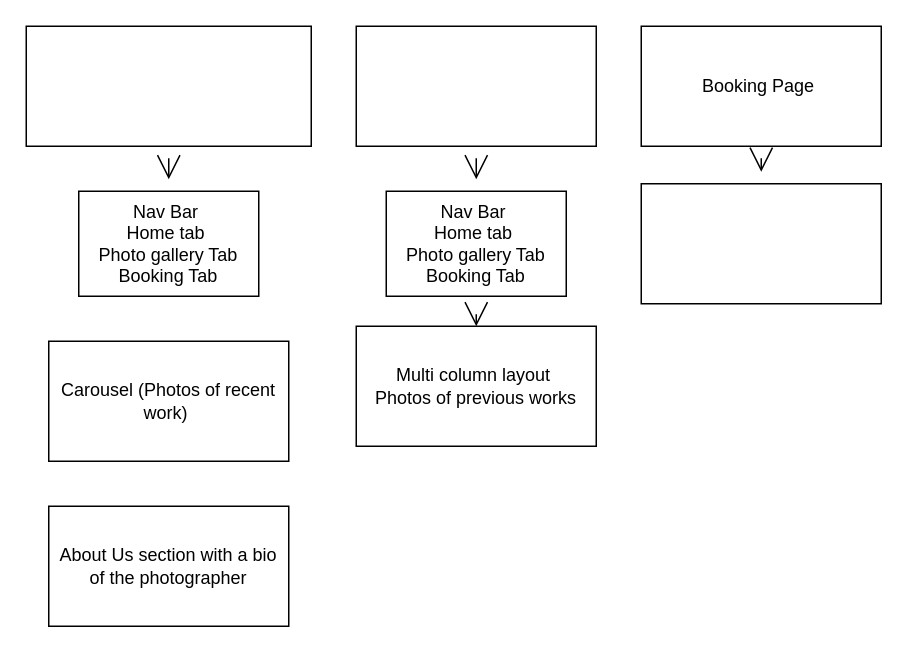
The diagram is 908 pixels wide and 653 high, and some of its shapes have lost their labels. The centre of each missing label's shape, as x and y in pixels:
Forum for booking photo shoot appointments: (x=760, y=243)
Gallery Page: (x=475, y=85)
Home Page: (x=168, y=85)
